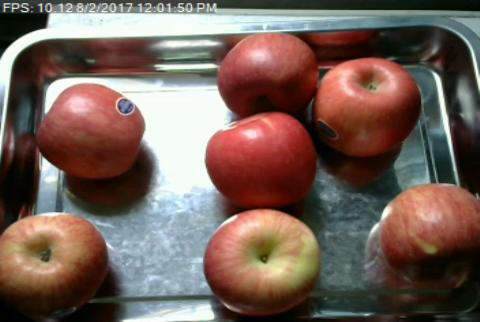apple: (203, 209, 320, 315), (204, 111, 317, 208), (379, 181, 480, 289), (0, 211, 108, 310), (313, 57, 421, 156), (36, 82, 146, 178), (216, 32, 317, 115)
